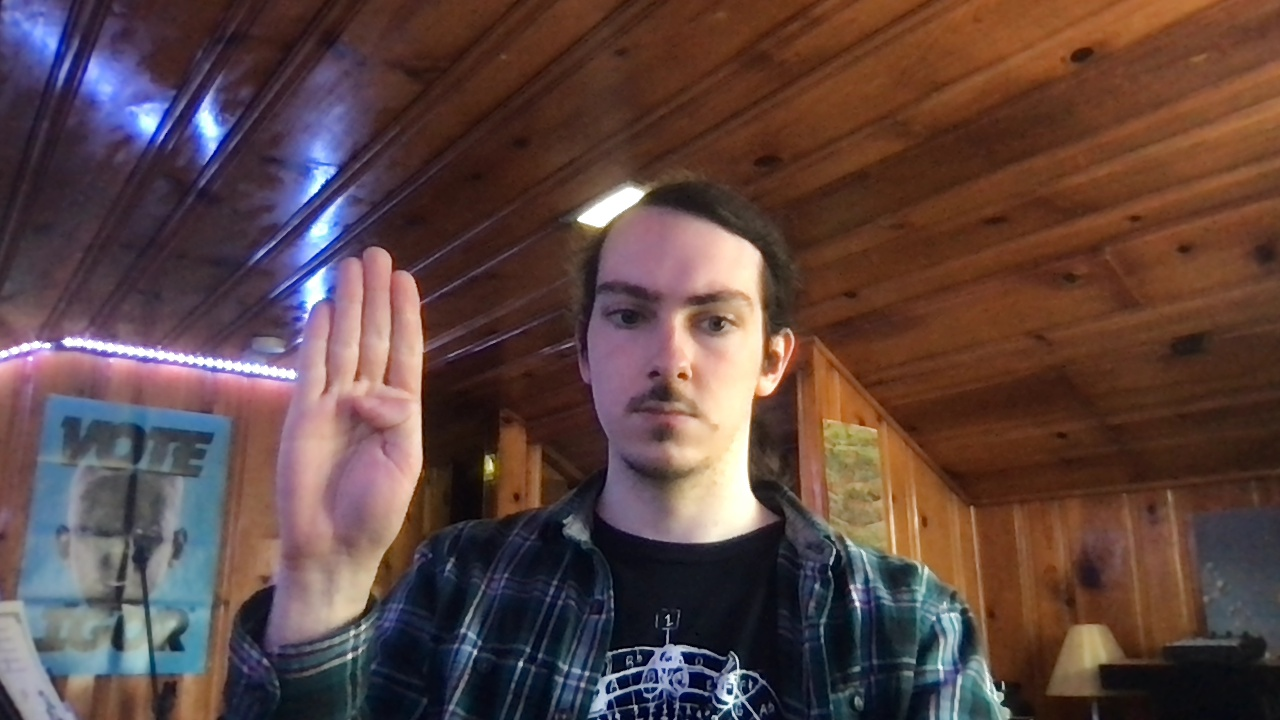b: (274, 244, 426, 561)
